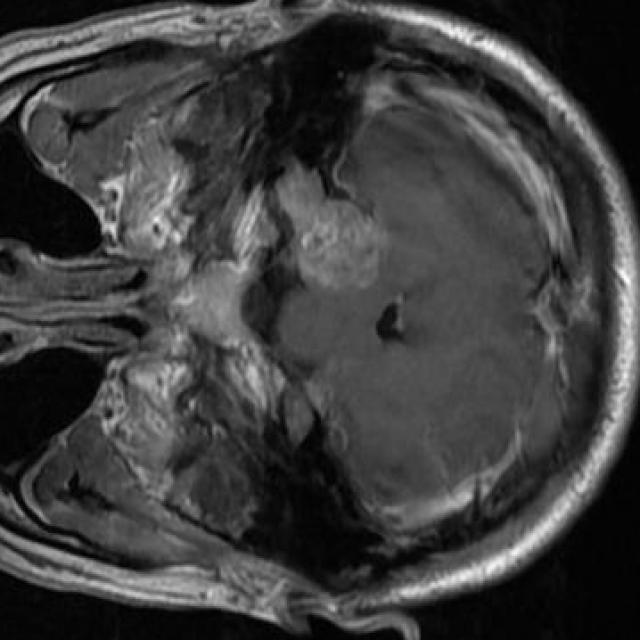meningioma: (275, 169, 383, 291)
